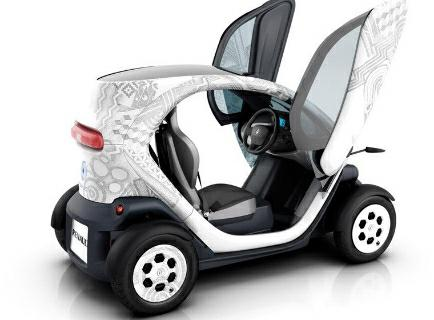雷诺-Twizy: (42, 1, 400, 320)
